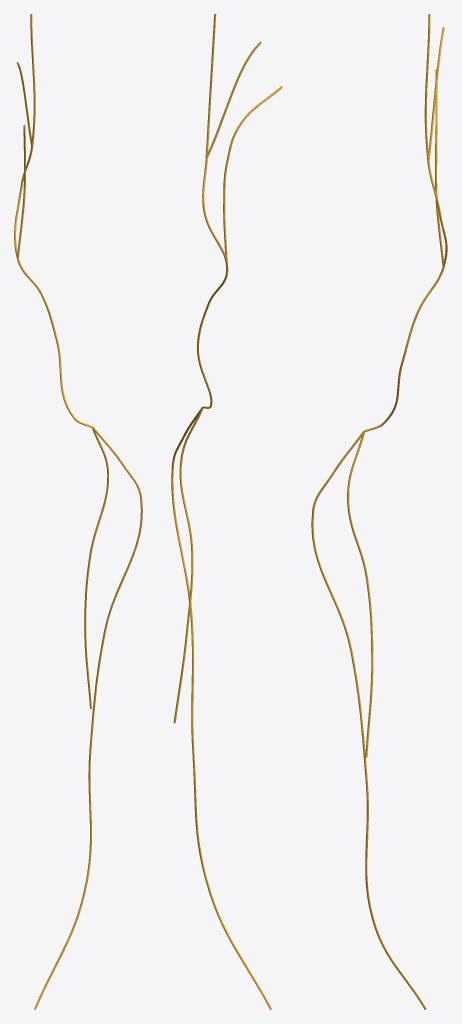
Rendered from nervoso-obturator-nerve-l.glb.
The picture shows the model from 3 angles, left to right: view 1: azimuth 90°, elevation 25°; view 2: azimuth 210°, elevation 25°; view 3: azimuth 270°, elevation 25°; orthographic projection. The views are drawn at different scales.
Visible parts, largest first — view 1: Obturator nerve.l, Anterior branch of obturator nerve.l, Posterior branch of obturator nerve.l; view 2: Obturator nerve.l, Anterior branch of obturator nerve.l, Posterior branch of obturator nerve.l; view 3: Obturator nerve.l, Anterior branch of obturator nerve.l, Posterior branch of obturator nerve.l.
Part boxes in pixels (x1,y1,x2,y2): Obturator nerve.l: (14,14,92,428); Anterior branch of obturator nerve.l: (34,427,142,1009); Posterior branch of obturator nerve.l: (84,428,109,708); Obturator nerve.l: (197,14,282,408); Anterior branch of obturator nerve.l: (171,409,271,1009); Posterior branch of obturator nerve.l: (173,408,202,723); Obturator nerve.l: (364,14,447,432); Anterior branch of obturator nerve.l: (311,431,426,1009); Posterior branch of obturator nerve.l: (347,431,373,757).
Size of the model in its own units: 0.0437 by 0.5218 by 0.063.
